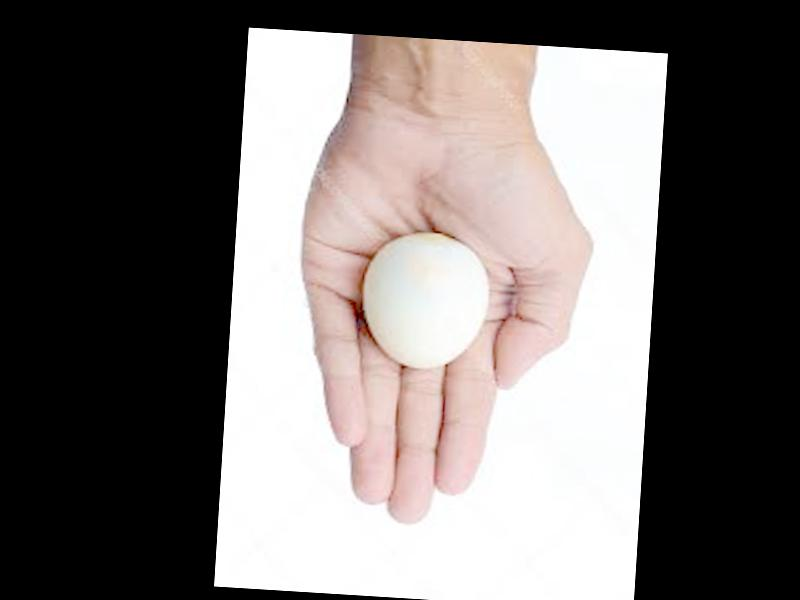Eggs: (361, 229, 489, 374)
